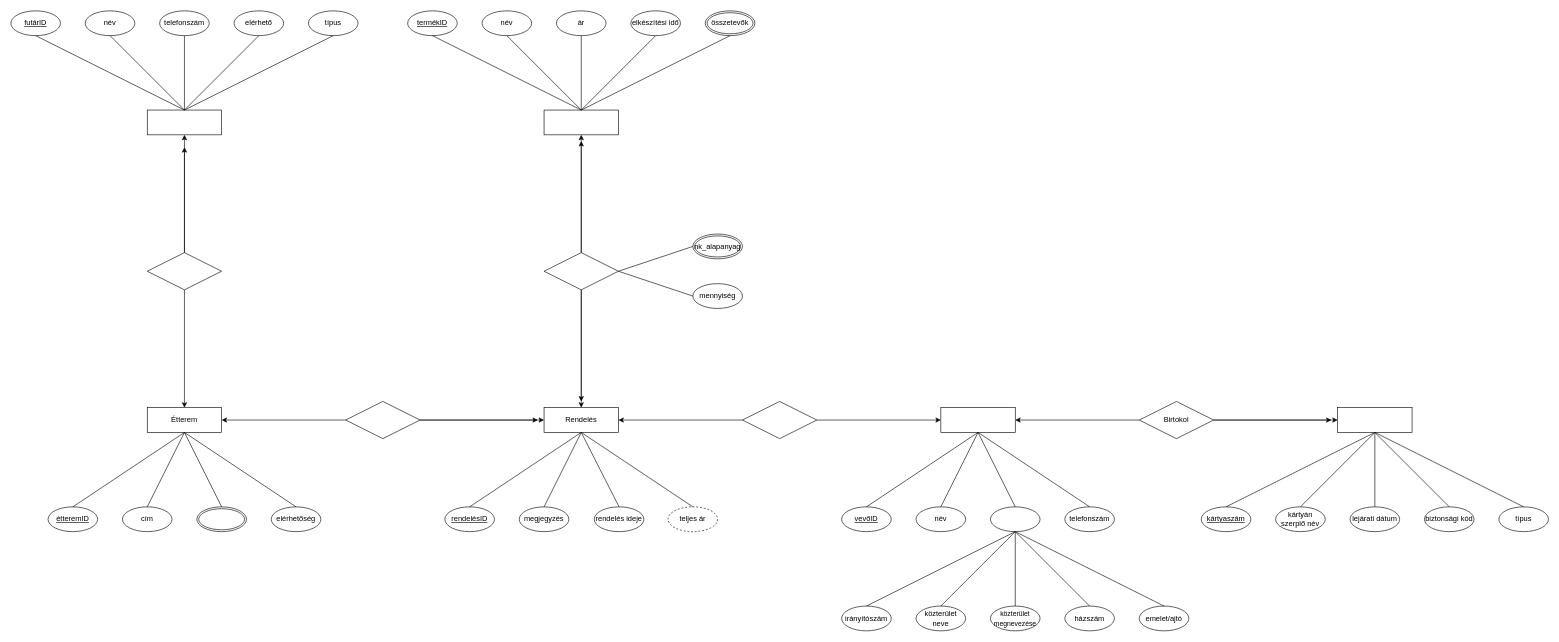
The diagram is 1559 pixels wide and 642 high, and some of its shapes have lost their labels. Each missing label, with the centre of its shape:
( cím ): the point at 1015,519
Bankkártya: the point at 1374,419
Dolgozik: the point at 184,271
Futár: the point at 184,122
nyitvatartás: the point at 221,519
RT: the point at 580,271
RV: the point at 779,420
RÉ: the point at 382,420
Termék: the point at 580,122
Vevő: the point at 977,419
